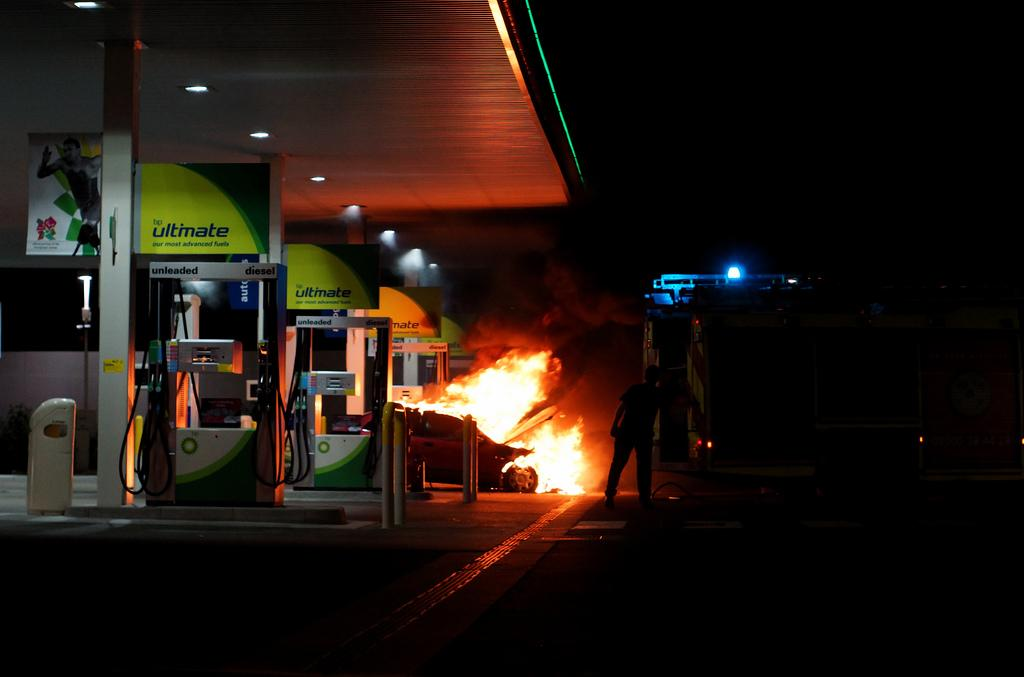fire: (458, 362, 542, 417), (537, 435, 585, 502)
